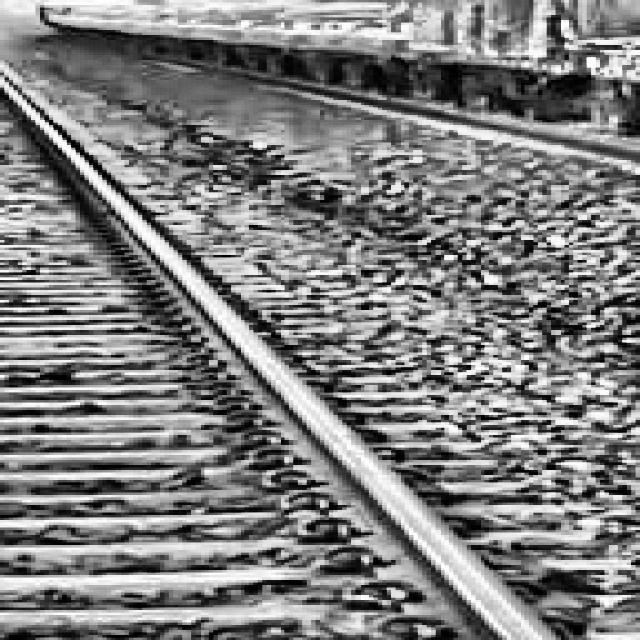Gerbong: (391, 0, 640, 130), (202, 14, 410, 95), (569, 45, 640, 217), (100, 14, 236, 62), (58, 4, 124, 34)
Lokomotif: (26, 0, 151, 32)
